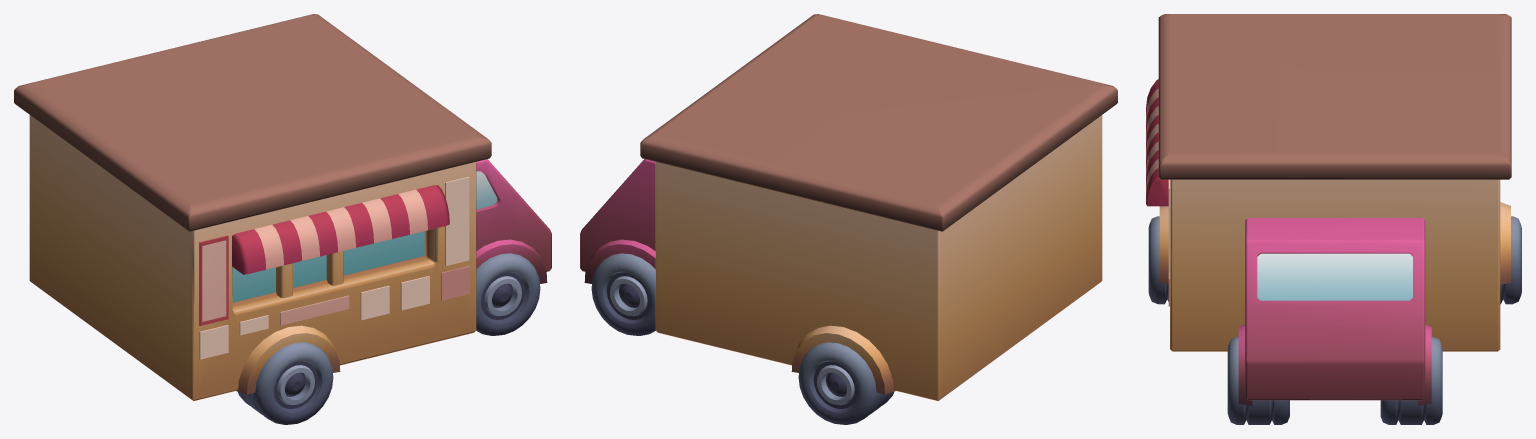
File: SM_Foodtruck.fbx
3 views of the same model, side by side, from view 1: azimuth 30°, elevation 25°; view 2: azimuth 150°, elevation 25°; view 3: azimuth 270°, elevation 25° (orthographic).
Visible parts, largest first — view 1: SM_Foodcart.001; view 2: SM_Foodcart.001; view 3: SM_Foodcart.001.
Part boxes in pixels (left/top/right/bottom): SM_Foodcart.001: left=14, top=14, right=551, bottom=424; SM_Foodcart.001: left=580, top=14, right=1117, bottom=424; SM_Foodcart.001: left=1146, top=14, right=1521, bottom=424.
Bounding box in the file's own units: 789 × 441 × 627.
